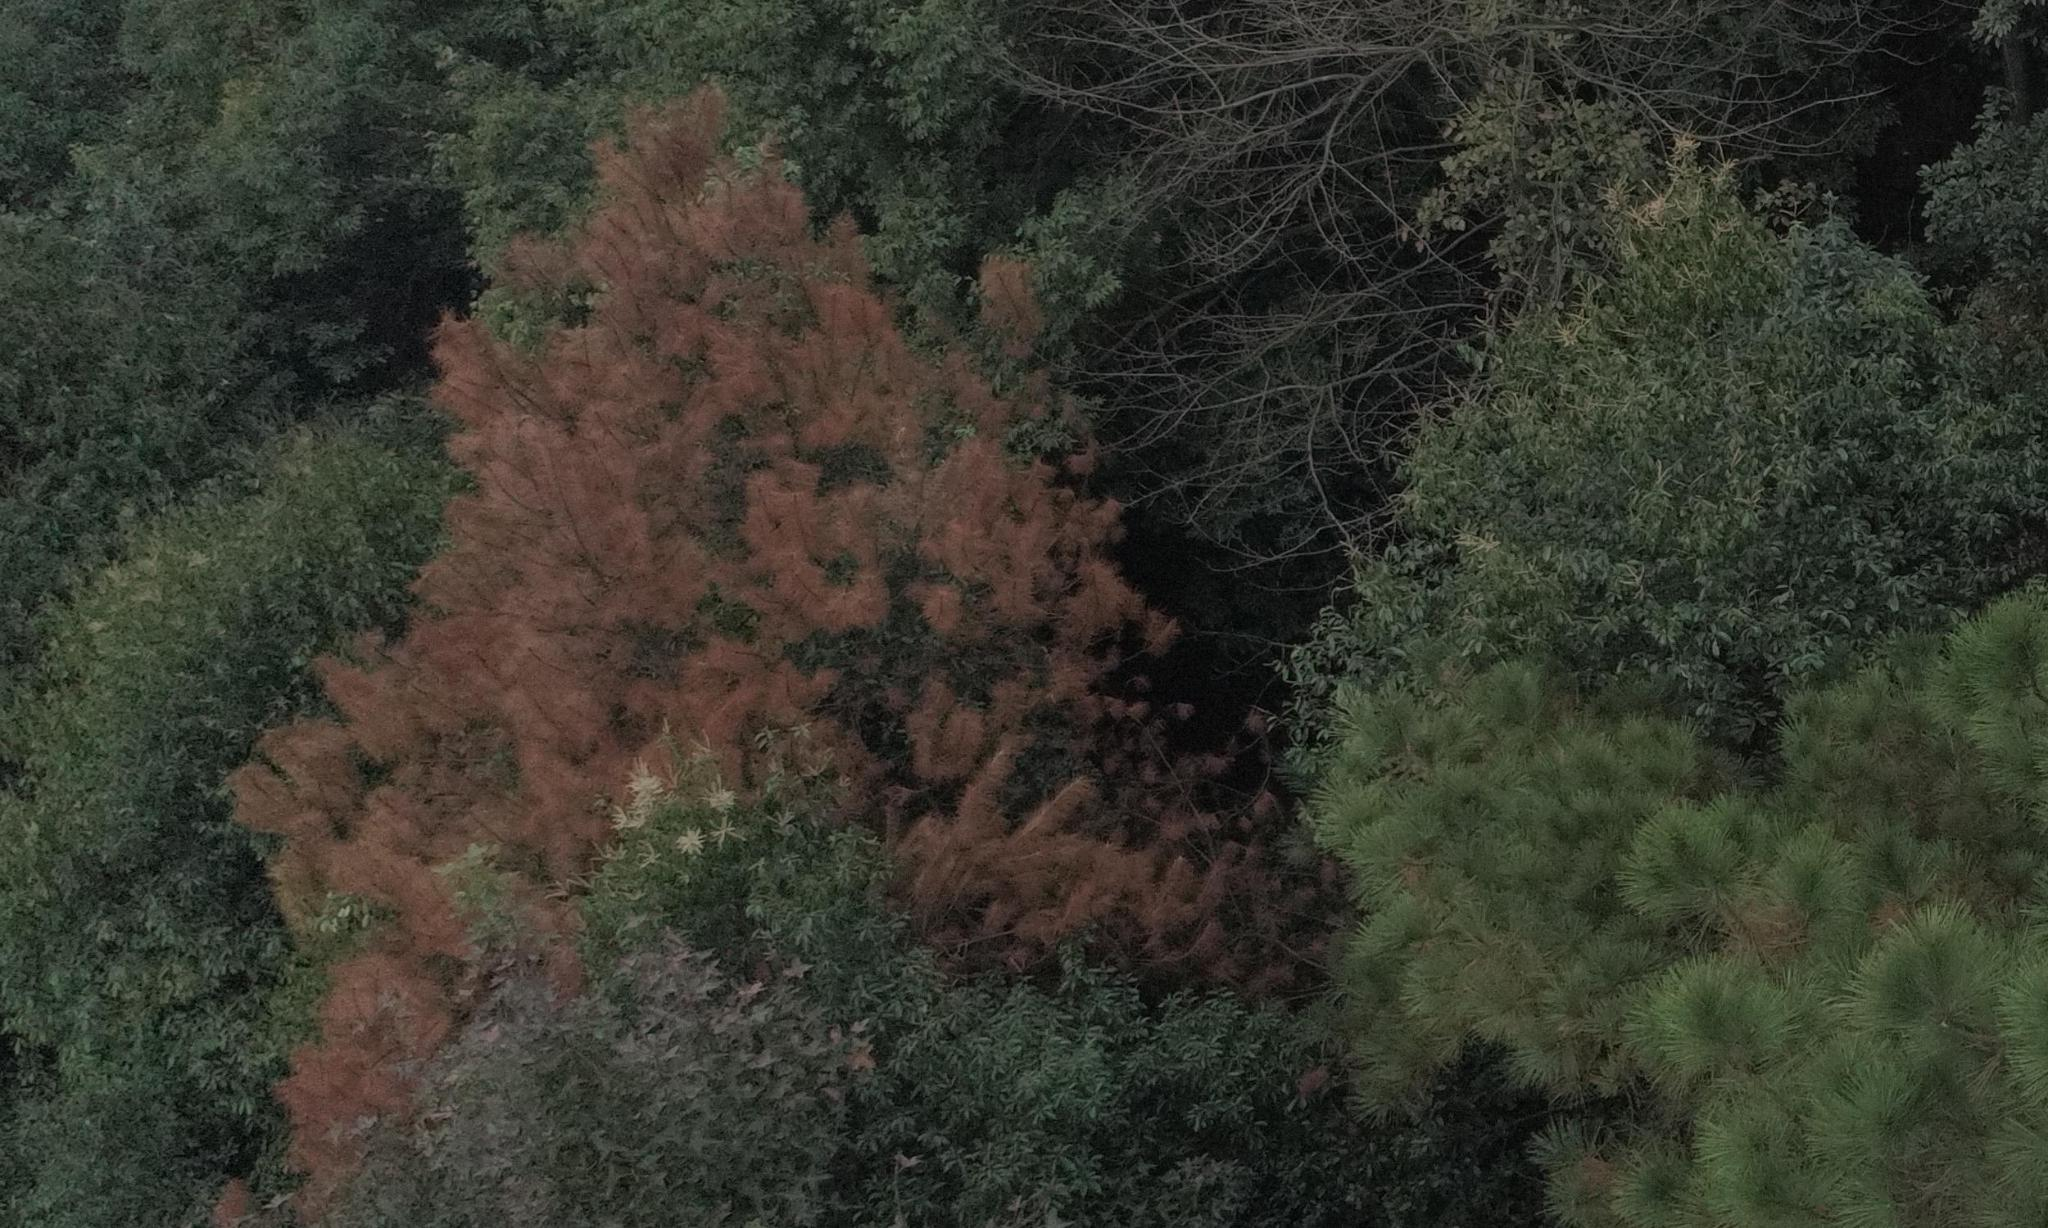heavy: (238, 130, 1194, 1142)
light: (1364, 740, 1959, 1200)
